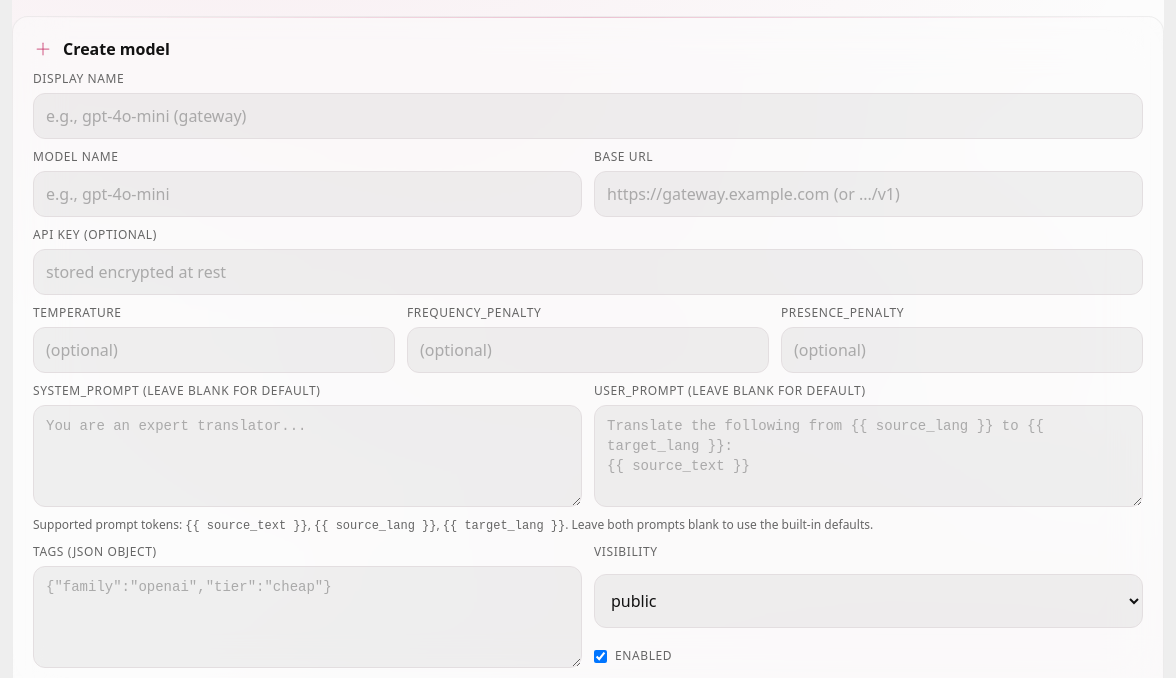
Test: AdminModelsRoute › creates a model and appends it to the table
The width and height of the screenshot is (1176, 678).
Type "Model Two" into the field labelled "Display name" at (588, 116), box [33,93,1143,139]
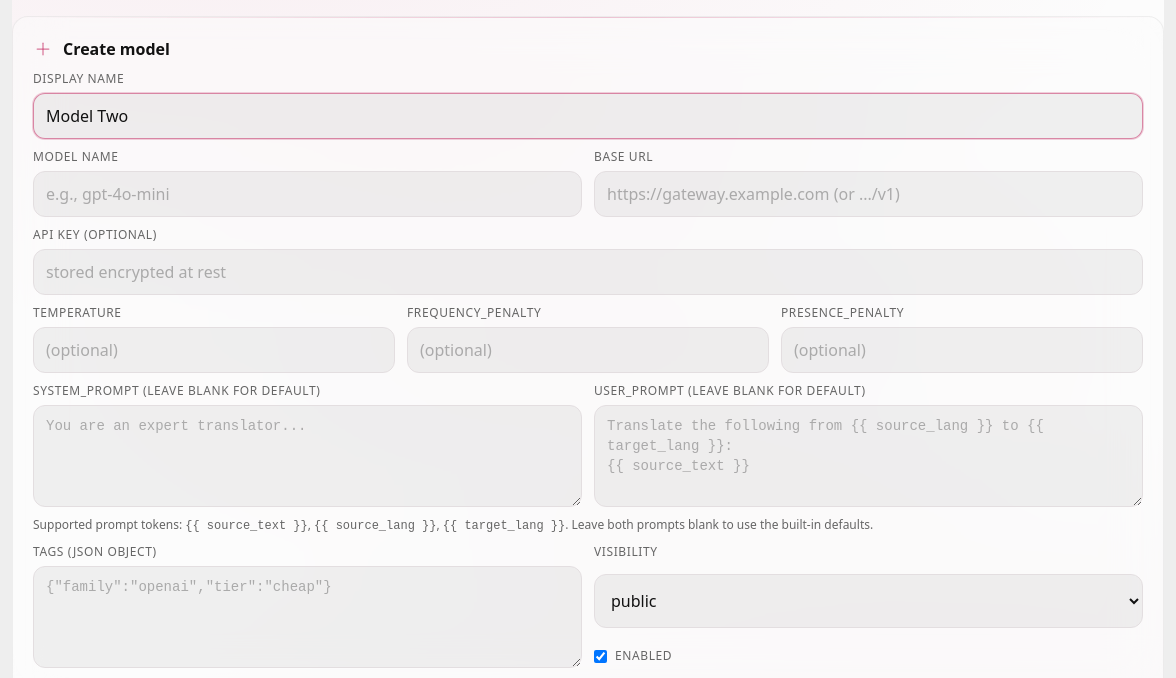
Type "gpt-two" into the field labelled "Model name" at (308, 194), box [33,171,582,217]
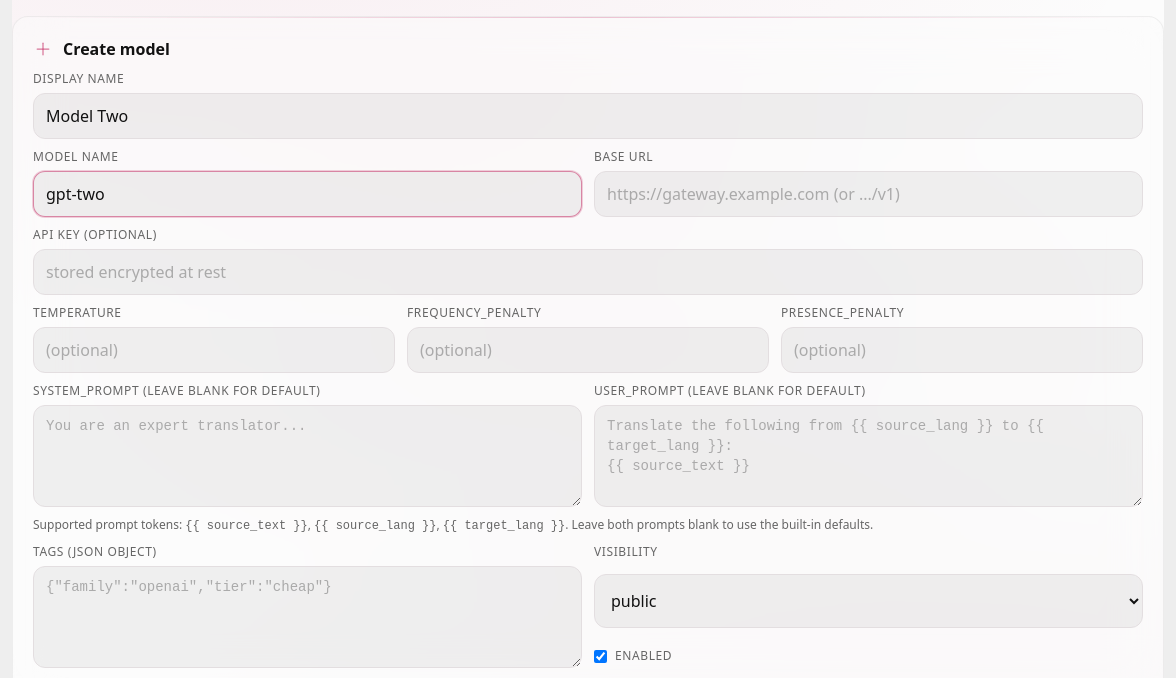
Type "https://gateway-two.example/v1" into the field labelled "Base URL" at (868, 194), box [594,171,1143,217]
(page scrolled)
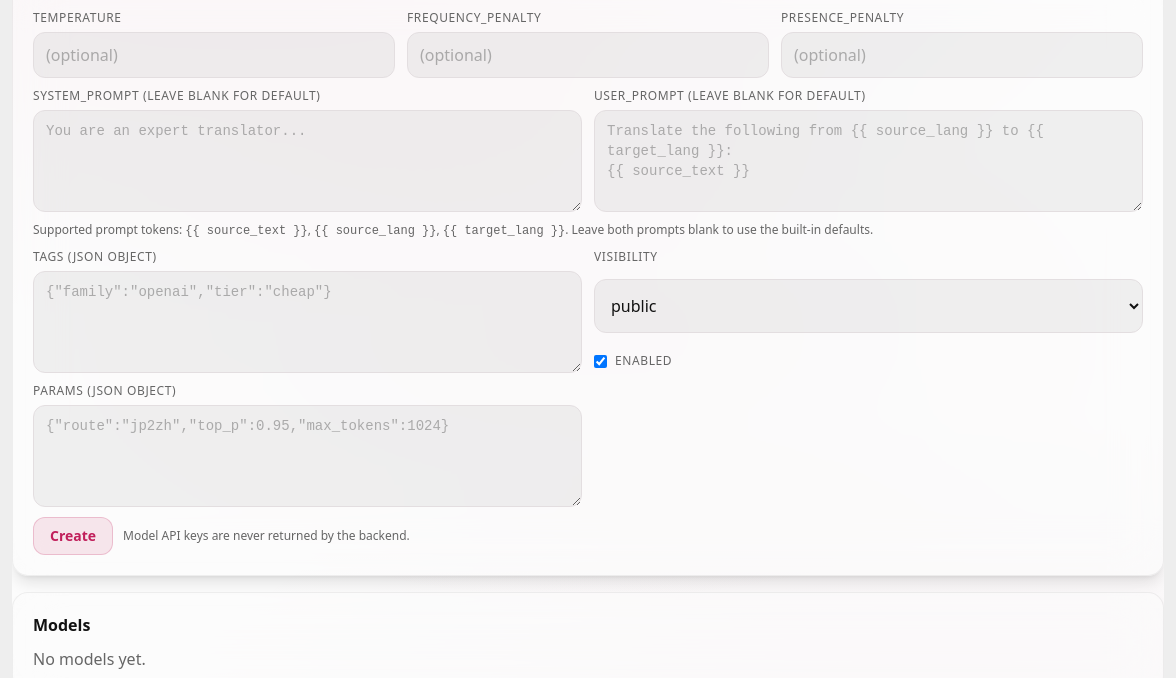
Click the button "Create" at (73, 536), box [33,517,113,555]
(page scrolled)
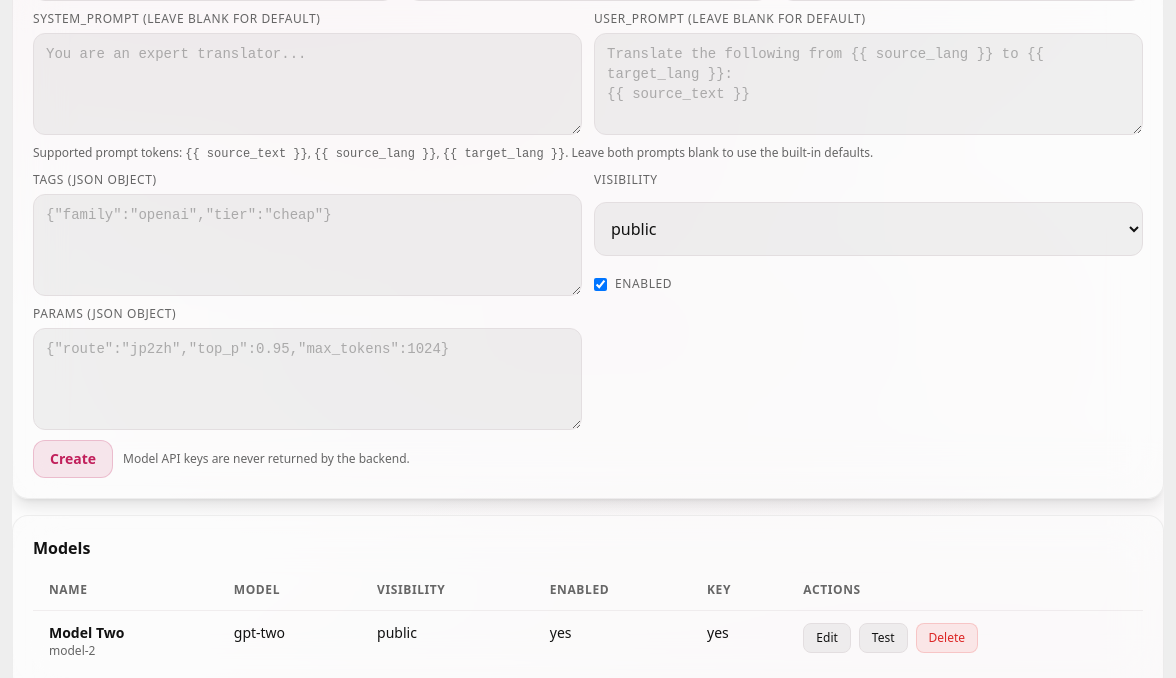
Result: the text "Model Two" is shown at [49,623,124,642]
